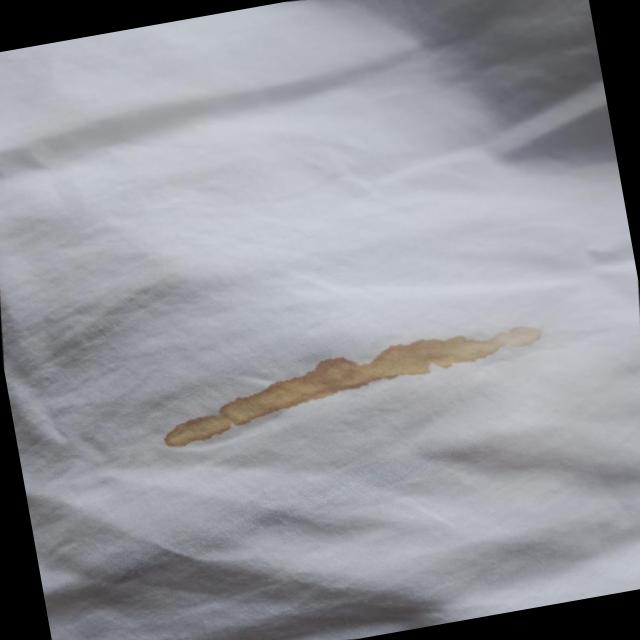stain: (140, 293, 574, 479)
